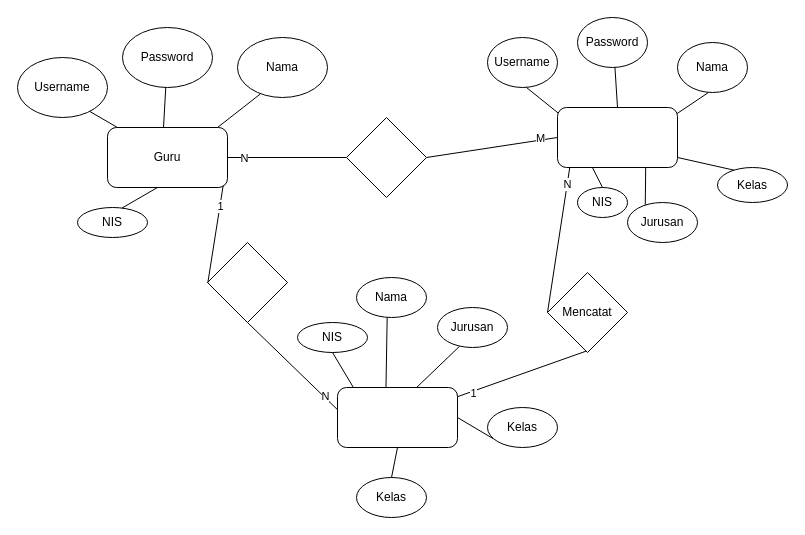
Some shapes in this 805 by 535 pixel diagram are drawn without their labels. Each missing label, with the centre of its shape:
Absensi: the point at 397,417
Mengajar: the point at 386,157
Mengawasi: the point at 247,282
Siswa: the point at 617,137
